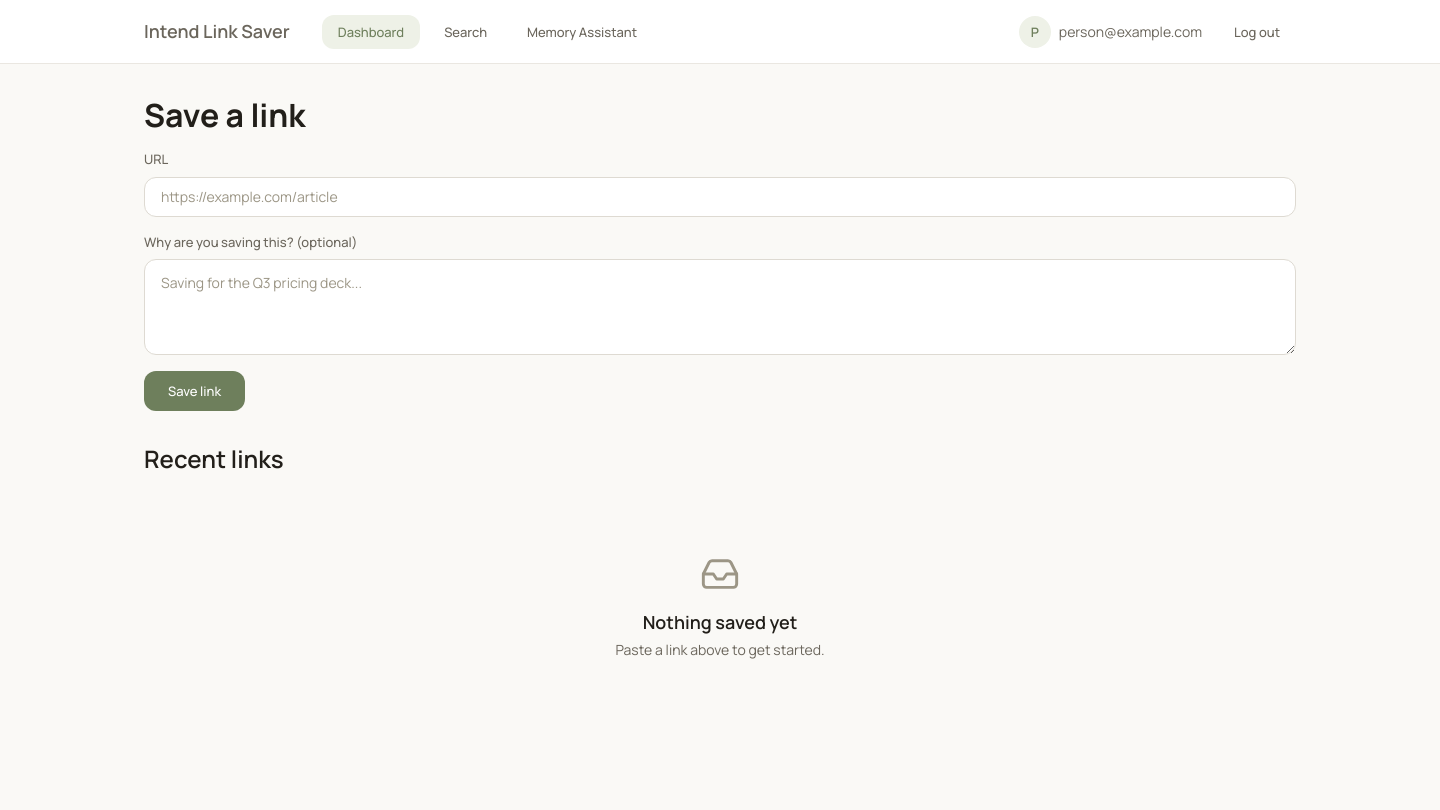
Scenario: App (routing + auth integration) › navigating to /search shows the Search page within the same shell
Check: the header is shown, box [0,0,1439,64]
Click the button "Search" at point(466, 32), box [428,15,503,49]
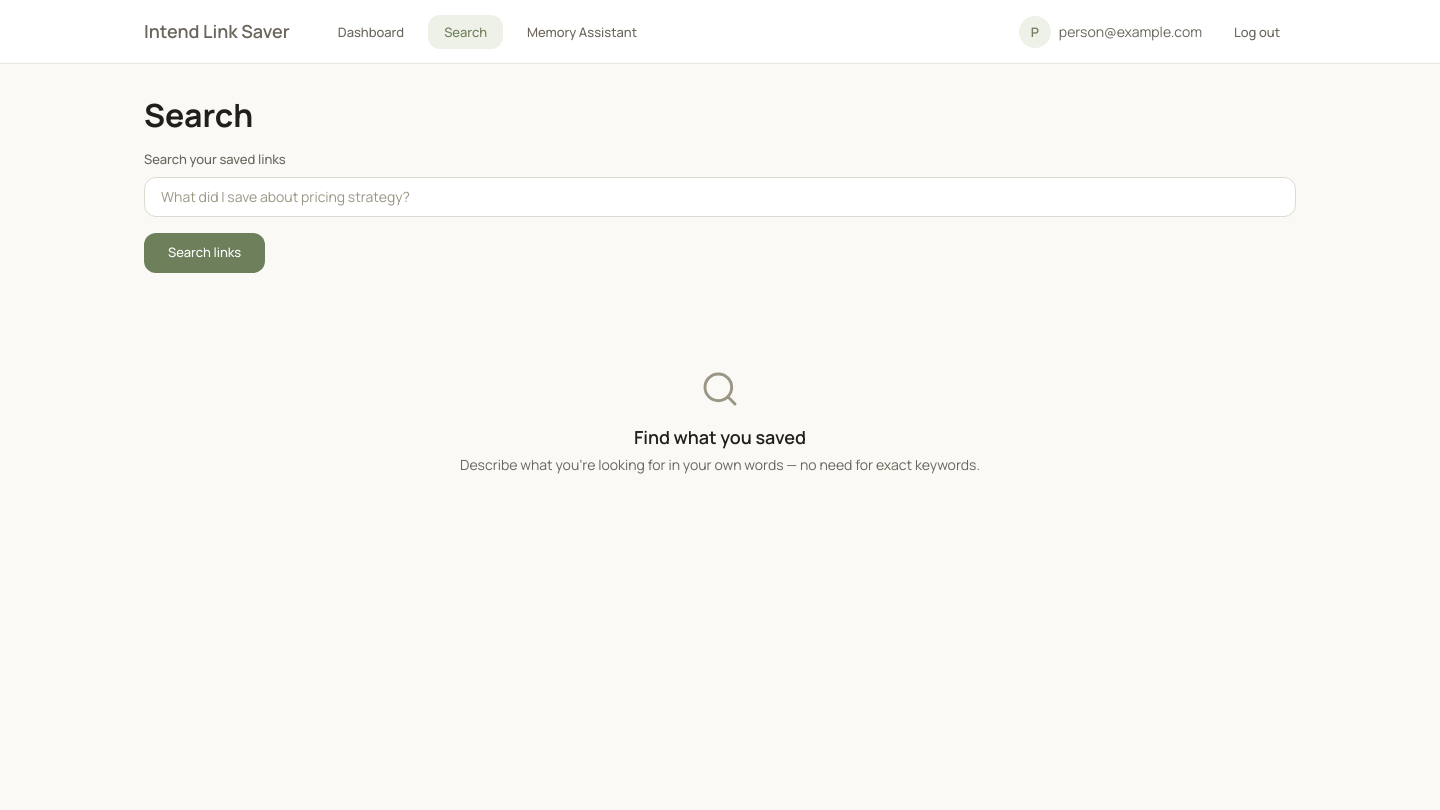
Check: the heading "Search" is shown, box [144,93,253,137]
